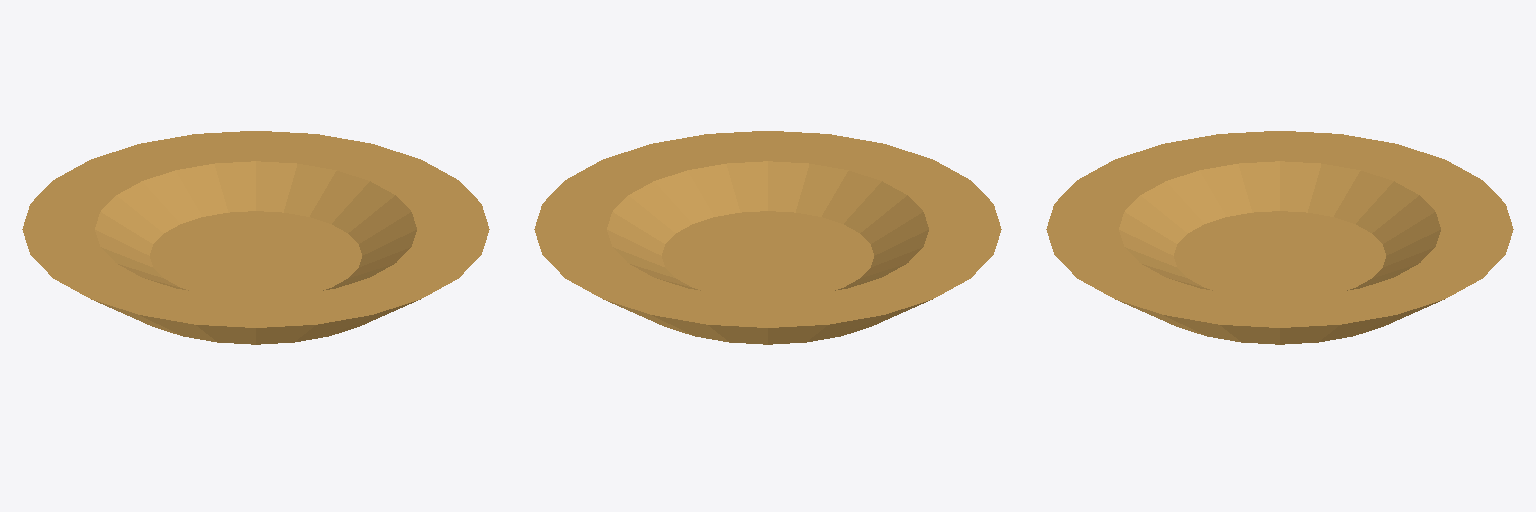
Rendered from detailPlate.obj.
3 renders of one model, left to right at view 1: azimuth 30°, elevation 25°; view 2: azimuth 150°, elevation 25°; view 3: azimuth 270°, elevation 25°, orthographic.
Parts seen in each view (by area): view 1: detailPlate; view 2: detailPlate; view 3: detailPlate.
Part boxes in pixels (x1,y1,x2,y2): detailPlate: (22, 131, 489, 344); detailPlate: (534, 131, 1001, 344); detailPlate: (1046, 131, 1513, 344).
Size of the model in its own units: 0.2131 by 0.0268 by 0.2131.